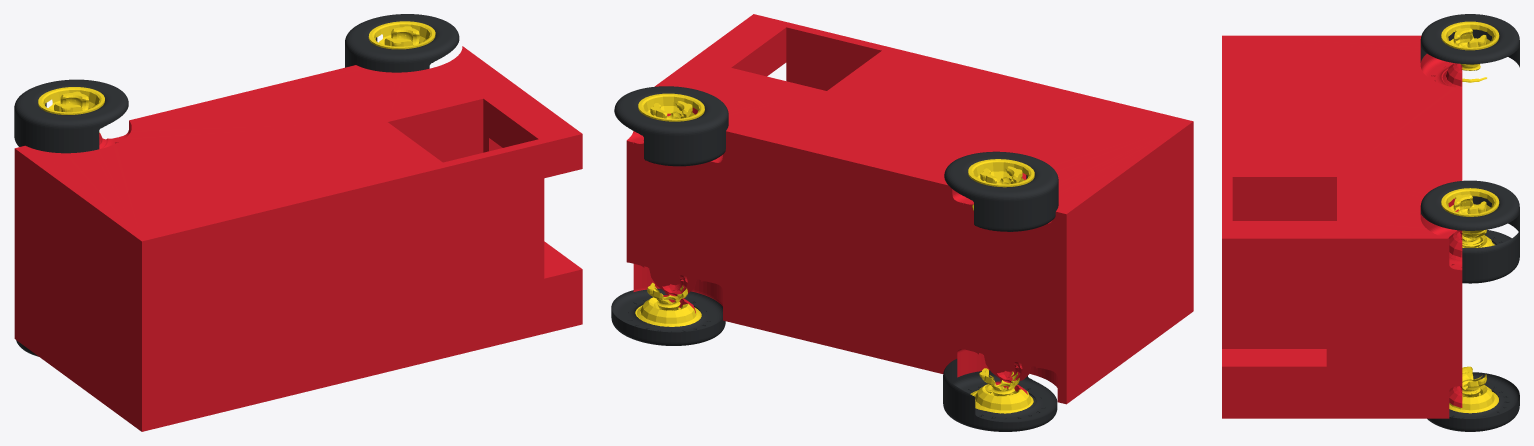
Rendered from tinker.obj.
The picture shows the model from 3 angles, left to right: view 1: azimuth 30°, elevation 25°; view 2: azimuth 150°, elevation 25°; view 3: azimuth 270°, elevation 25°; orthographic projection. The views are drawn at different scales.
Parts seen in each view (by area): view 1: group_0_15277357, group_0_2829873, group_0_16768282; view 2: group_0_15277357, group_0_2829873, group_0_16768282; view 3: group_0_15277357, group_0_2829873, group_0_16768282.
Boxes of the visible parts, x1,y1,x2,y2 form: group_0_15277357: (14, 46, 582, 431); group_0_2829873: (14, 14, 459, 356); group_0_16768282: (38, 21, 435, 132); group_0_15277357: (626, 14, 1193, 404); group_0_2829873: (611, 86, 1058, 431); group_0_16768282: (635, 93, 1034, 413); group_0_15277357: (1222, 35, 1462, 418); group_0_2829873: (1420, 14, 1519, 431); group_0_16768282: (1441, 21, 1499, 413).
Size of the model in its own units: 93 by 48 by 57.
